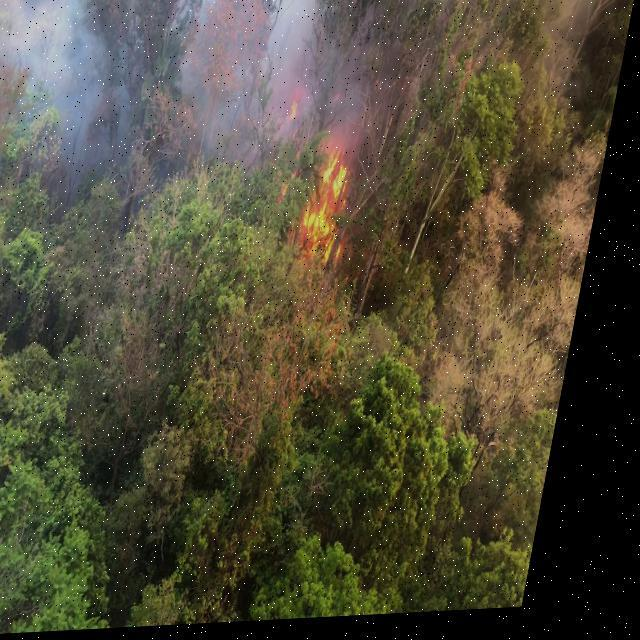Fire: (294, 138, 379, 274), (288, 86, 310, 128)
